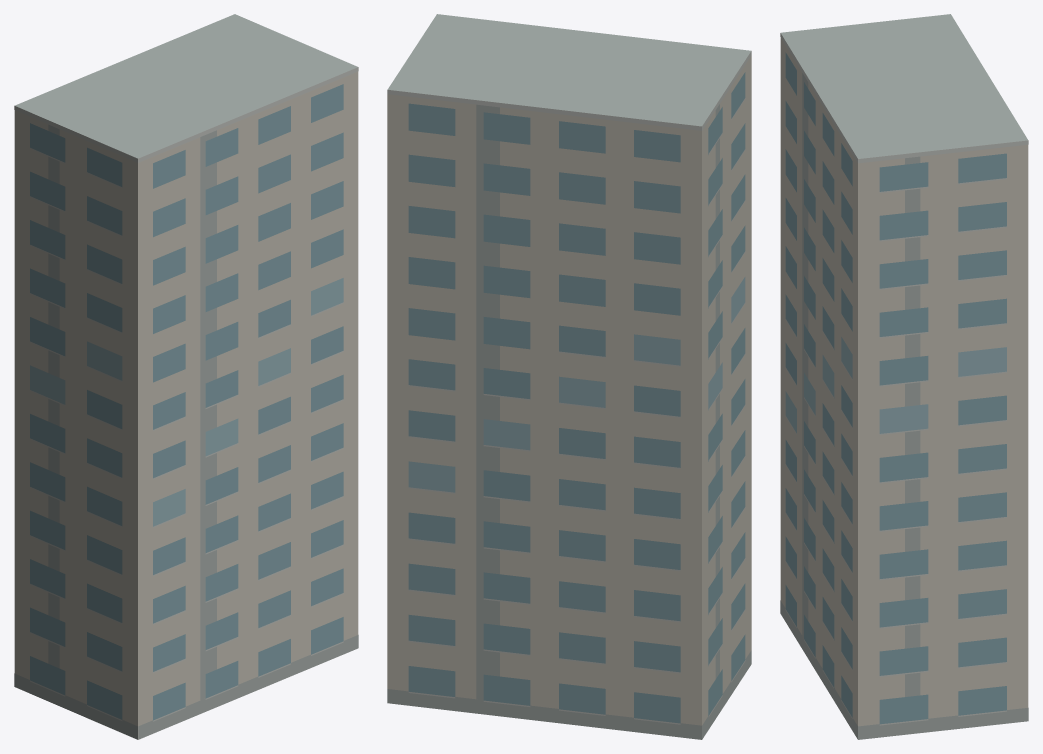
File: residential-89e7248f-3934-463b-8ef8-2d41653990a3.glb
3 views of the same model, side by side, from view 1: azimuth 30°, elevation 25°; view 2: azimuth 150°, elevation 25°; view 3: azimuth 270°, elevation 25° (orthographic). The views are drawn at different scales.
Visible parts, largest first — view 1: residential-89e7248f-3934-463b-8ef8-2d41653990a3.tmp; view 2: residential-89e7248f-3934-463b-8ef8-2d41653990a3.tmp; view 3: residential-89e7248f-3934-463b-8ef8-2d41653990a3.tmp.
Part boxes in pixels (left/top/right/bottom): residential-89e7248f-3934-463b-8ef8-2d41653990a3.tmp: left=14, top=14, right=358, bottom=739; residential-89e7248f-3934-463b-8ef8-2d41653990a3.tmp: left=387, top=14, right=751, bottom=739; residential-89e7248f-3934-463b-8ef8-2d41653990a3.tmp: left=780, top=14, right=1028, bottom=739.
Bounding box in the file's own units: 17.69 × 33 × 12.78.
